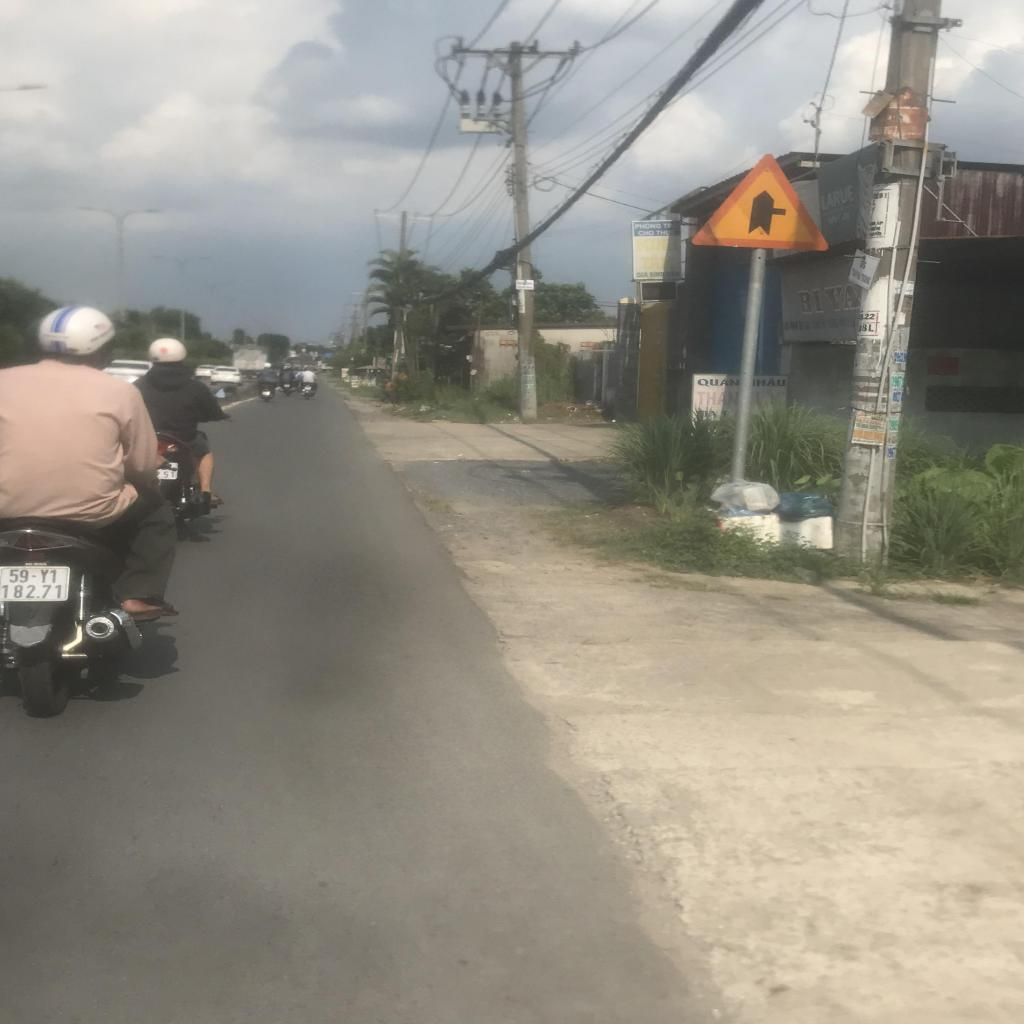giao_nhau_voi_duong_khong_uu_tien: (687, 151, 830, 251)
